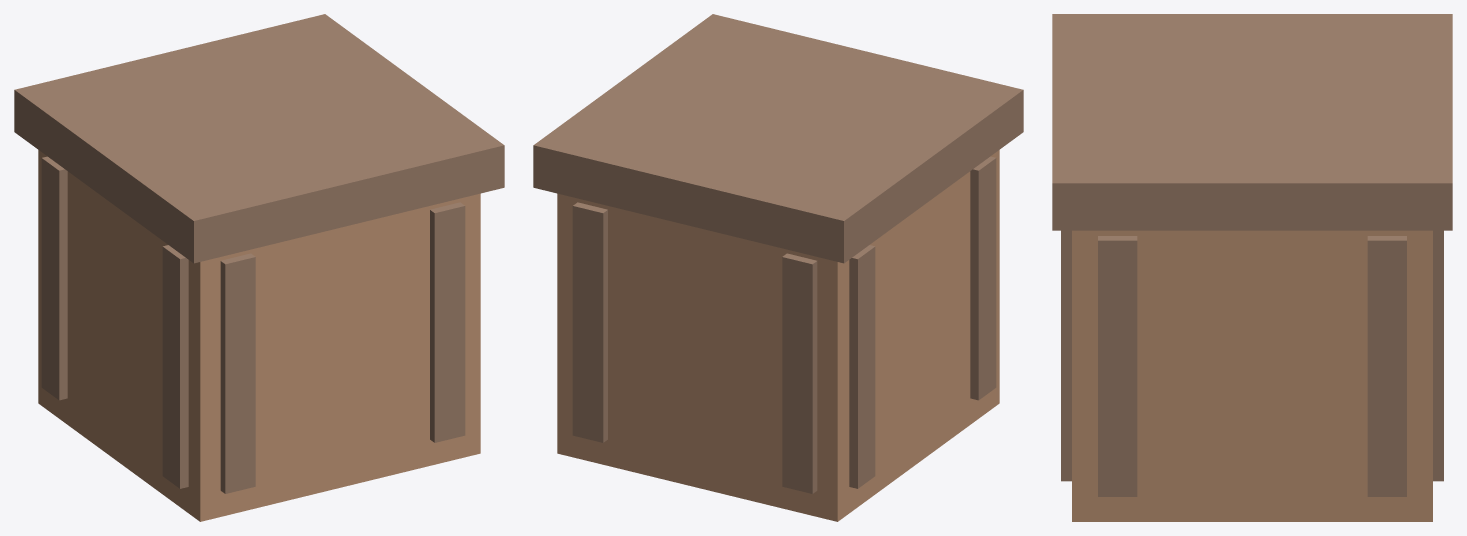
The model's file is Obstacle_Crate_1x1.glb.
3 views of the same model, side by side, from view 1: azimuth 30°, elevation 25°; view 2: azimuth 150°, elevation 25°; view 3: azimuth 270°, elevation 25° (orthographic). The views are drawn at different scales.
Parts seen in each view (by area): view 1: crate_0, top_1, slat_2, slat_4, slat_3, slat_5; view 2: crate_0, top_1, slat_2, slat_4, slat_5, slat_3; view 3: top_1, crate_0, slat_3, slat_5, slat_4.
Boxes of the visible parts, x1,y1,x2,y2 form: crate_0: (38, 150, 480, 521); top_1: (14, 14, 504, 263); slat_2: (220, 253, 255, 493); slat_4: (430, 202, 465, 442); slat_3: (41, 156, 67, 400); slat_5: (162, 245, 188, 488); crate_0: (557, 150, 999, 521); top_1: (533, 14, 1023, 263); slat_2: (782, 253, 817, 493); slat_4: (572, 202, 607, 442); slat_5: (970, 156, 996, 400); slat_3: (849, 245, 875, 488); top_1: (1052, 14, 1452, 230); crate_0: (1072, 230, 1432, 521); slat_3: (1367, 236, 1406, 496); slat_5: (1098, 236, 1137, 496); slat_4: (1061, 230, 1443, 481).
Size of the model in its own units: 0.92 by 0.88 by 0.92.
